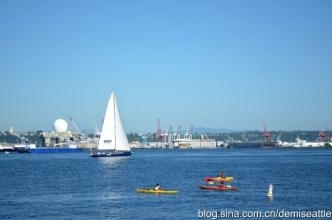fanchuan: (87, 88, 137, 159)
otherboat: (132, 187, 177, 196), (198, 183, 235, 192), (205, 177, 234, 183)
